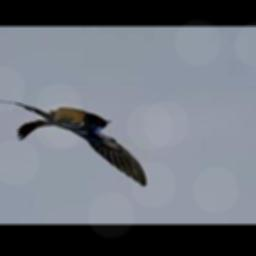Swallow: (0, 99, 147, 188)
